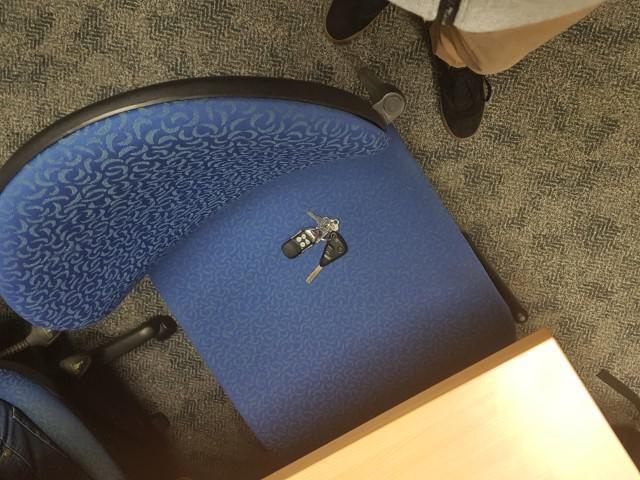key: (305, 231, 347, 284)
